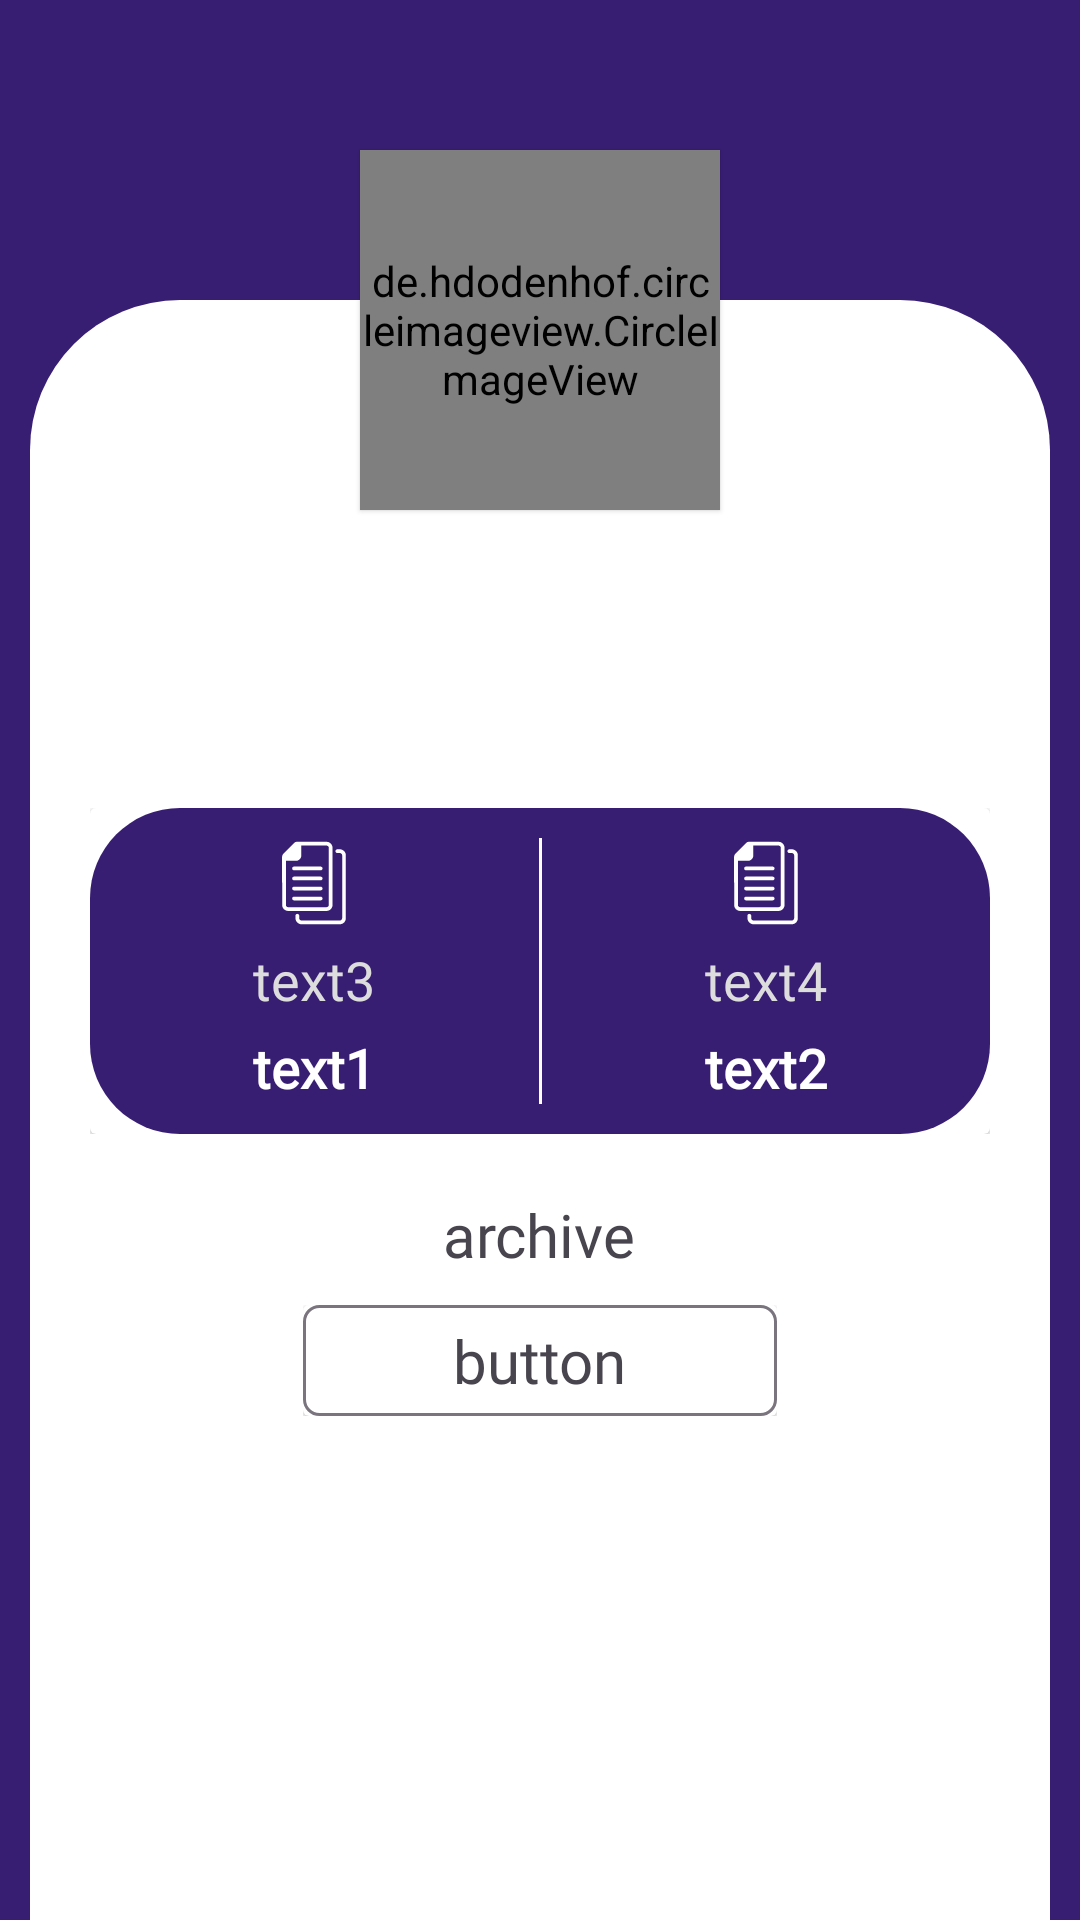

Named icons in this screenshot (1080×1920) and their centers, [x,y]:
documents: [314,883], [766,883]
